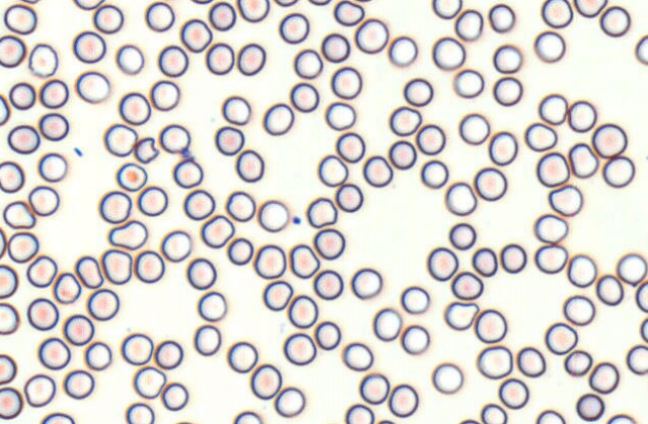PLT: (291, 215, 304, 226)
RBC: (591, 122, 627, 158), (354, 17, 389, 53), (108, 219, 148, 250), (476, 345, 512, 379), (536, 151, 570, 187), (132, 365, 166, 399), (200, 214, 234, 248), (474, 308, 507, 343), (253, 244, 286, 279), (250, 363, 282, 399), (100, 248, 132, 284), (23, 373, 56, 407), (444, 181, 477, 215), (474, 167, 507, 201), (72, 30, 106, 63), (103, 123, 137, 156), (432, 36, 465, 70), (548, 184, 583, 216), (75, 71, 110, 103), (568, 142, 599, 178), (544, 322, 577, 355), (283, 332, 316, 365), (38, 337, 71, 370), (602, 155, 635, 188), (118, 92, 151, 125), (180, 18, 212, 52), (289, 243, 320, 278), (427, 246, 458, 281), (27, 297, 59, 330), (257, 199, 289, 232), (121, 332, 153, 365), (160, 229, 192, 262), (99, 190, 131, 223), (262, 102, 294, 135), (458, 112, 490, 145), (287, 294, 318, 328), (3, 3, 37, 34), (534, 213, 568, 244), (443, 301, 479, 330), (431, 362, 463, 394), (350, 267, 382, 299), (7, 231, 39, 263), (313, 227, 345, 259), (87, 288, 119, 320), (26, 254, 57, 287), (317, 154, 348, 187), (616, 252, 647, 285), (588, 361, 619, 394), (134, 250, 165, 283), (157, 44, 188, 77), (331, 66, 362, 99), (534, 30, 565, 63), (372, 307, 402, 341), (388, 383, 418, 417), (567, 253, 597, 287), (28, 43, 58, 77), (498, 377, 529, 409), (227, 341, 258, 373), (563, 294, 595, 325), (362, 155, 393, 187), (389, 105, 421, 136), (183, 189, 215, 220), (599, 5, 630, 37), (450, 270, 483, 300), (534, 244, 567, 274), (236, 42, 266, 75), (7, 124, 40, 154), (488, 131, 517, 165), (274, 386, 305, 417), (262, 280, 293, 311), (63, 314, 94, 345), (306, 197, 337, 228), (278, 12, 309, 43), (144, 1, 175, 32), (28, 185, 59, 216), (137, 185, 168, 216), (359, 372, 389, 404), (225, 190, 255, 222), (186, 257, 216, 289), (415, 123, 445, 155), (158, 123, 190, 153), (150, 79, 180, 111), (538, 93, 568, 125), (567, 100, 597, 132), (2, 200, 35, 229), (74, 255, 103, 288), (205, 42, 234, 75), (235, 149, 264, 182), (524, 122, 557, 151), (313, 269, 343, 300), (342, 341, 373, 371), (63, 369, 94, 399), (293, 48, 323, 79), (335, 131, 365, 162), (453, 68, 484, 98), (172, 158, 203, 188), (52, 272, 81, 304), (454, 8, 483, 40), (197, 291, 227, 321), (289, 82, 319, 112), (214, 125, 244, 155), (221, 95, 251, 125), (492, 76, 522, 106), (37, 152, 67, 182), (116, 162, 147, 191), (516, 346, 545, 377), (92, 4, 123, 33), (388, 35, 417, 66), (115, 43, 144, 74), (325, 101, 356, 130), (38, 112, 69, 141), (193, 324, 221, 356), (541, 0, 573, 28), (400, 324, 429, 354), (400, 285, 430, 314), (154, 339, 183, 369), (403, 77, 433, 106), (321, 32, 350, 62), (492, 44, 522, 73), (39, 78, 68, 108), (596, 274, 624, 305), (208, 0, 236, 31), (160, 381, 188, 411), (499, 243, 527, 273), (0, 34, 25, 67), (335, 183, 363, 212), (575, 393, 604, 421), (84, 341, 112, 370), (420, 159, 448, 188), (388, 140, 416, 169), (314, 320, 341, 350), (0, 160, 24, 193), (448, 222, 476, 250), (563, 349, 592, 376), (488, 3, 515, 32), (471, 247, 497, 277), (333, 0, 364, 25), (0, 386, 23, 419), (9, 81, 35, 110), (227, 237, 253, 265), (237, 0, 269, 22), (626, 344, 647, 375), (0, 264, 18, 298), (125, 402, 154, 423), (0, 302, 19, 334), (344, 403, 374, 423), (573, 0, 607, 17), (432, 0, 462, 19), (480, 403, 507, 423), (0, 353, 16, 384), (535, 409, 565, 423), (40, 412, 75, 423), (635, 280, 647, 312), (233, 410, 262, 423), (635, 34, 647, 64), (0, 93, 10, 125), (73, 0, 104, 10), (606, 413, 636, 423), (0, 227, 7, 258), (640, 317, 647, 343), (274, 0, 298, 7), (307, 0, 331, 5), (458, 418, 480, 423), (190, 0, 213, 4), (173, 420, 195, 424), (375, 419, 395, 423), (20, 0, 40, 4), (353, 0, 373, 2)
Schistocyte: (136, 136, 160, 164)
